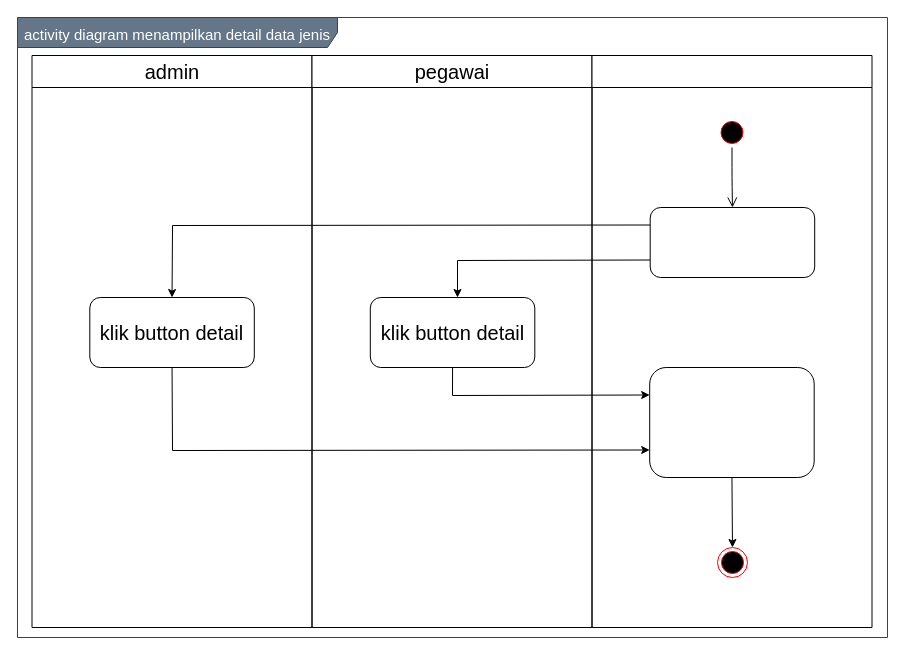
The diagram is 905 pixels wide and 655 high, and some of its shapes have lost their labels. Each missing label, with the box of its shape:
menampilkan data barang berdasarkan jenis yang dipilih: (649, 366, 814, 478)
menampilkan data jenis: (649, 206, 815, 278)
sistem: (591, 54, 872, 628)
